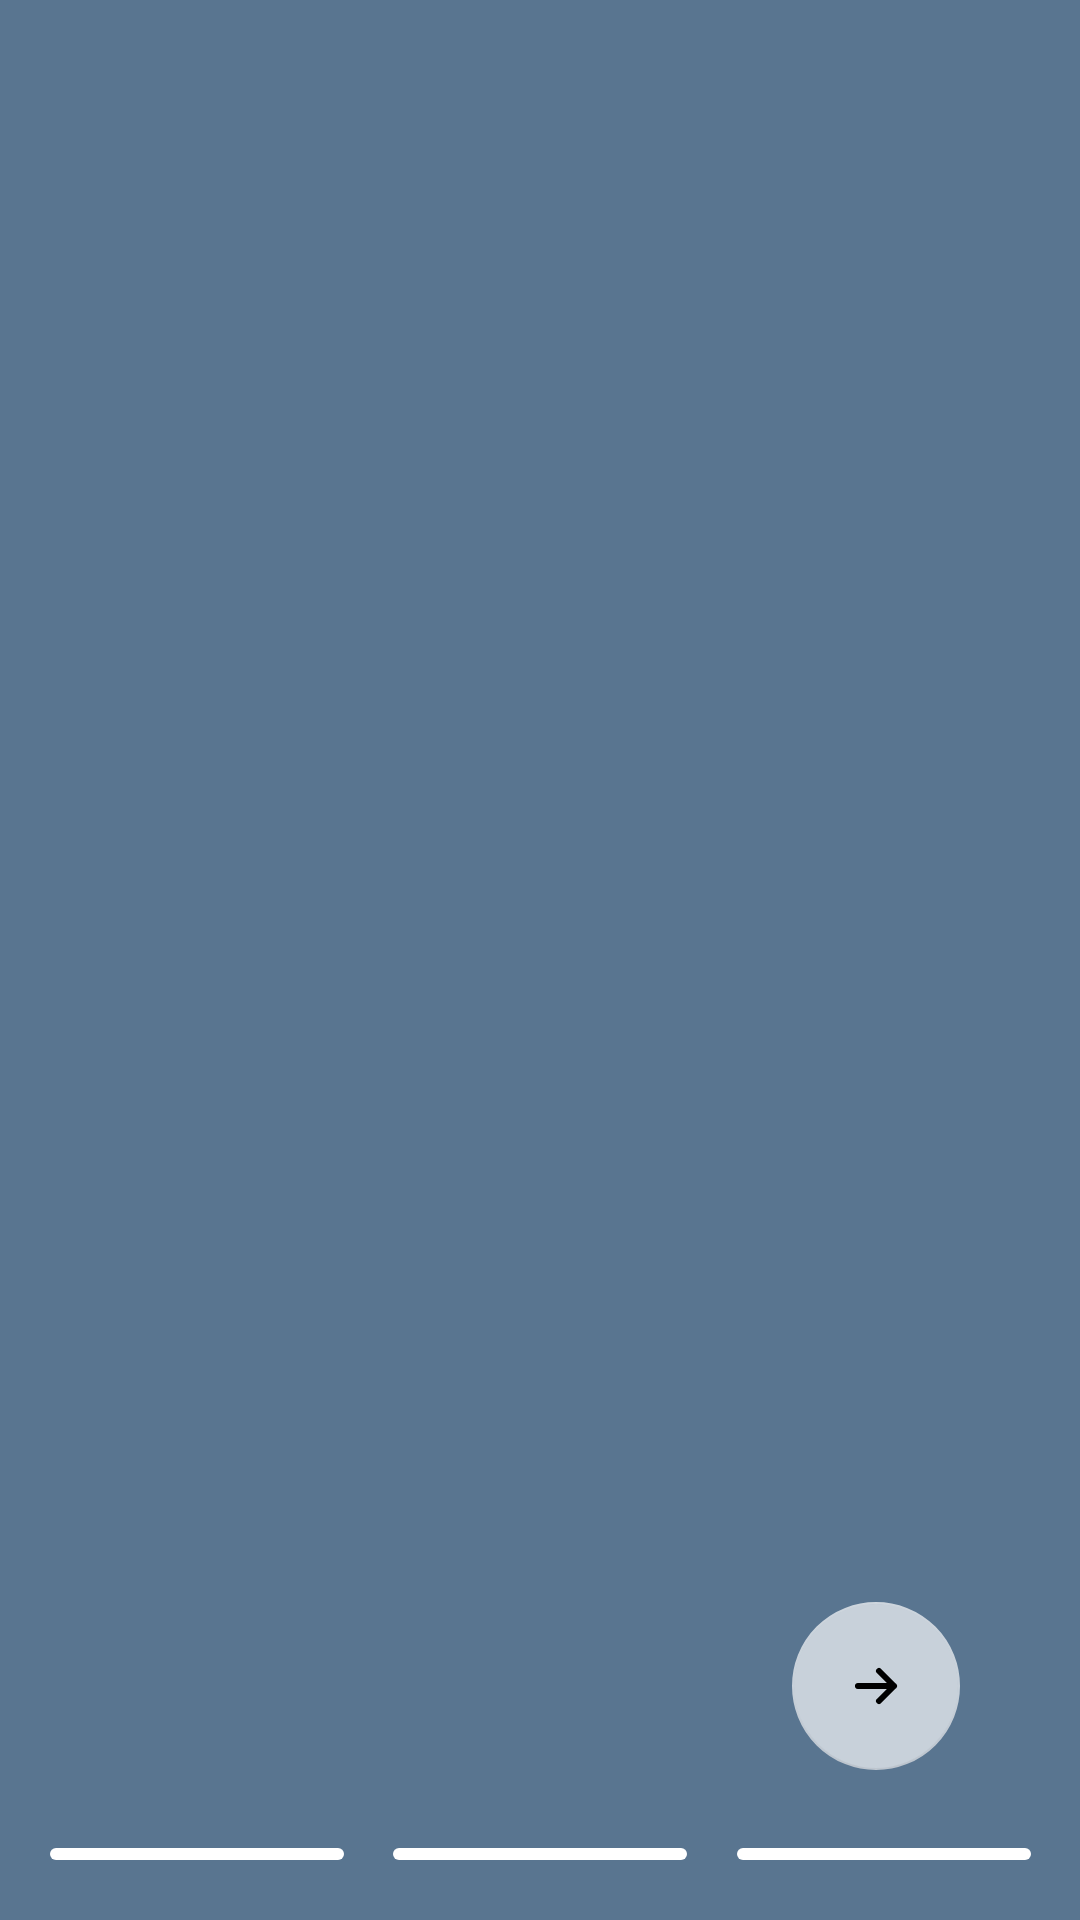

Icon bounding boxes for this 1080 x 1920 phone screenshot, format (x1, y1, x2, y2):
arrow: (792, 1602, 960, 1770)
